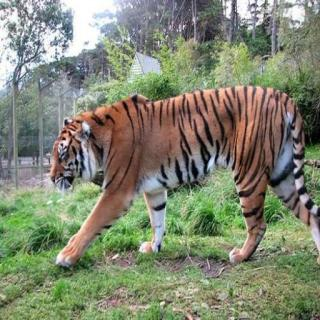Tiger: (30, 78, 320, 282)
